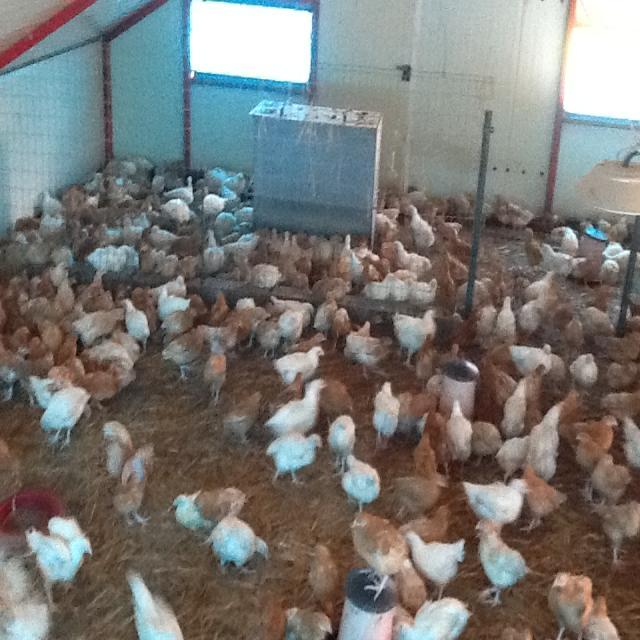poussin: (24, 516, 94, 612), (348, 508, 410, 598), (0, 542, 51, 638), (476, 520, 532, 604), (203, 516, 273, 578), (386, 590, 472, 640), (124, 569, 184, 640), (404, 528, 466, 596), (460, 476, 532, 534), (264, 376, 328, 439), (38, 383, 94, 450), (593, 498, 640, 574), (520, 458, 566, 534), (100, 422, 158, 482), (264, 431, 324, 488), (158, 322, 212, 384), (111, 458, 158, 528), (173, 486, 250, 528), (390, 306, 438, 372), (548, 572, 594, 638), (388, 471, 448, 520), (574, 432, 610, 508), (30, 356, 84, 406), (558, 416, 619, 460), (527, 404, 563, 477), (590, 450, 632, 512), (0, 327, 33, 403), (302, 544, 342, 606), (340, 453, 380, 515), (14, 349, 57, 406), (270, 344, 328, 386), (414, 334, 462, 384), (393, 384, 438, 437), (84, 332, 140, 374), (224, 390, 266, 446), (344, 331, 392, 380), (369, 380, 401, 453), (74, 366, 127, 408), (540, 244, 592, 286), (74, 304, 124, 347), (400, 506, 453, 546), (35, 274, 80, 320), (420, 403, 452, 467), (328, 413, 358, 481), (227, 298, 273, 340), (481, 354, 516, 409), (283, 604, 336, 640), (494, 430, 530, 482), (500, 374, 530, 436), (444, 302, 486, 346), (0, 276, 40, 320), (316, 374, 356, 418), (490, 194, 534, 234), (269, 369, 306, 416), (85, 242, 139, 274), (447, 400, 473, 466), (236, 260, 297, 288), (122, 297, 152, 352), (203, 318, 246, 356), (438, 249, 467, 303), (48, 330, 82, 376), (271, 296, 319, 328), (512, 340, 552, 378), (454, 274, 494, 312), (78, 265, 109, 311), (160, 306, 198, 343), (252, 313, 283, 358), (354, 240, 396, 273), (314, 262, 352, 298), (595, 327, 640, 357), (141, 242, 182, 274), (203, 354, 230, 402), (66, 177, 105, 210), (146, 274, 188, 304), (604, 359, 640, 394), (470, 422, 500, 464), (408, 205, 436, 250), (3, 212, 43, 243), (156, 283, 190, 319), (620, 414, 640, 474), (524, 363, 548, 413), (202, 226, 226, 276), (392, 239, 426, 273), (600, 392, 640, 420), (520, 294, 548, 334), (412, 431, 438, 474), (222, 232, 265, 258), (142, 174, 166, 220), (570, 353, 600, 389), (522, 224, 544, 272), (524, 269, 554, 304), (277, 310, 307, 344), (581, 304, 617, 332), (600, 215, 636, 242), (546, 350, 569, 392), (601, 244, 632, 275), (313, 290, 337, 330), (412, 191, 448, 217), (162, 174, 193, 204), (177, 248, 206, 280), (158, 198, 196, 222), (364, 270, 394, 300), (40, 262, 68, 294), (149, 223, 183, 249), (198, 163, 228, 192), (305, 233, 336, 261), (409, 277, 441, 304), (376, 204, 400, 240), (331, 307, 352, 347), (108, 175, 140, 200), (38, 188, 68, 214), (200, 186, 225, 217), (224, 170, 248, 202), (210, 292, 232, 326), (432, 214, 463, 238), (390, 272, 416, 300), (448, 228, 474, 256), (474, 303, 498, 333), (498, 294, 514, 337), (560, 224, 580, 258), (448, 192, 476, 216), (335, 230, 356, 262), (121, 216, 145, 243), (92, 226, 124, 246), (52, 242, 76, 268), (37, 214, 68, 233), (599, 260, 621, 285), (266, 226, 280, 256), (290, 232, 302, 265), (280, 230, 292, 260)
